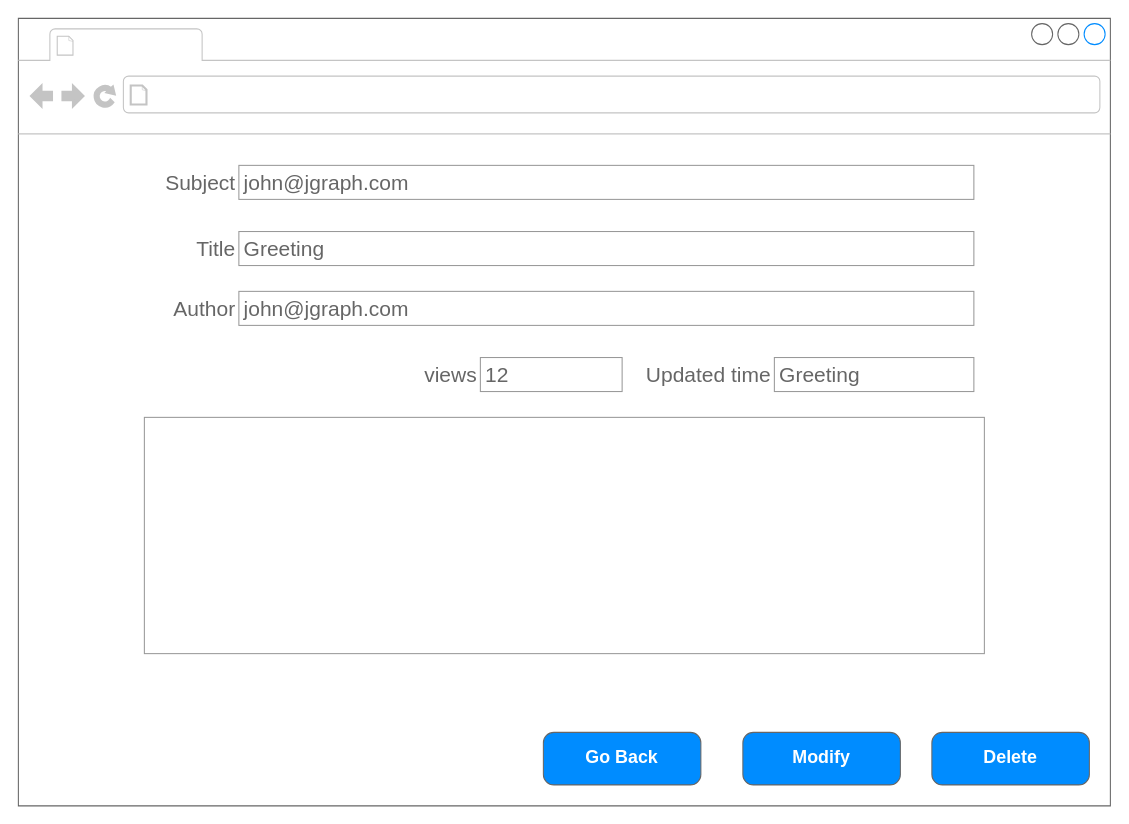
Image size: 1129x824. Some labels were removed from this diagram. Each missing label, with the centre of its shape:
"https://www.draw.io" goes at [285,94].
"Page 1" goes at [138,44].
"Text Content Lorem ipsum" goes at [563,535].
